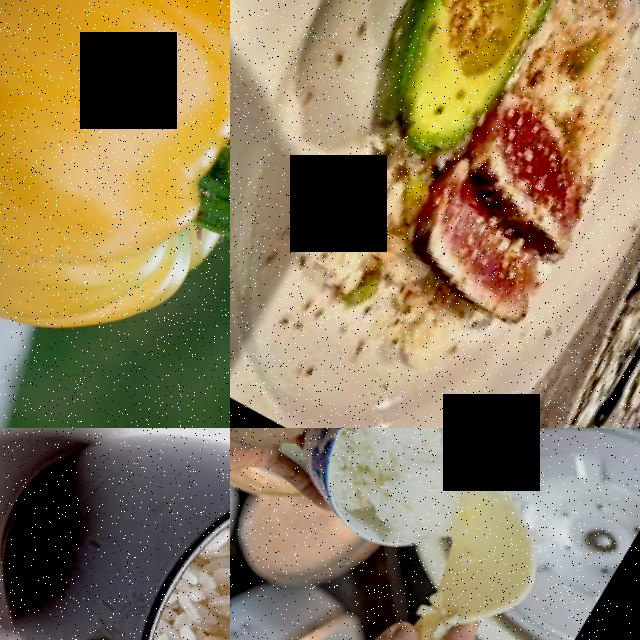tomato: (0, 0, 230, 417)
white rice: (114, 451, 230, 640), (332, 428, 480, 539)
